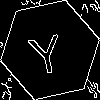Y: (25, 25, 66, 76)
